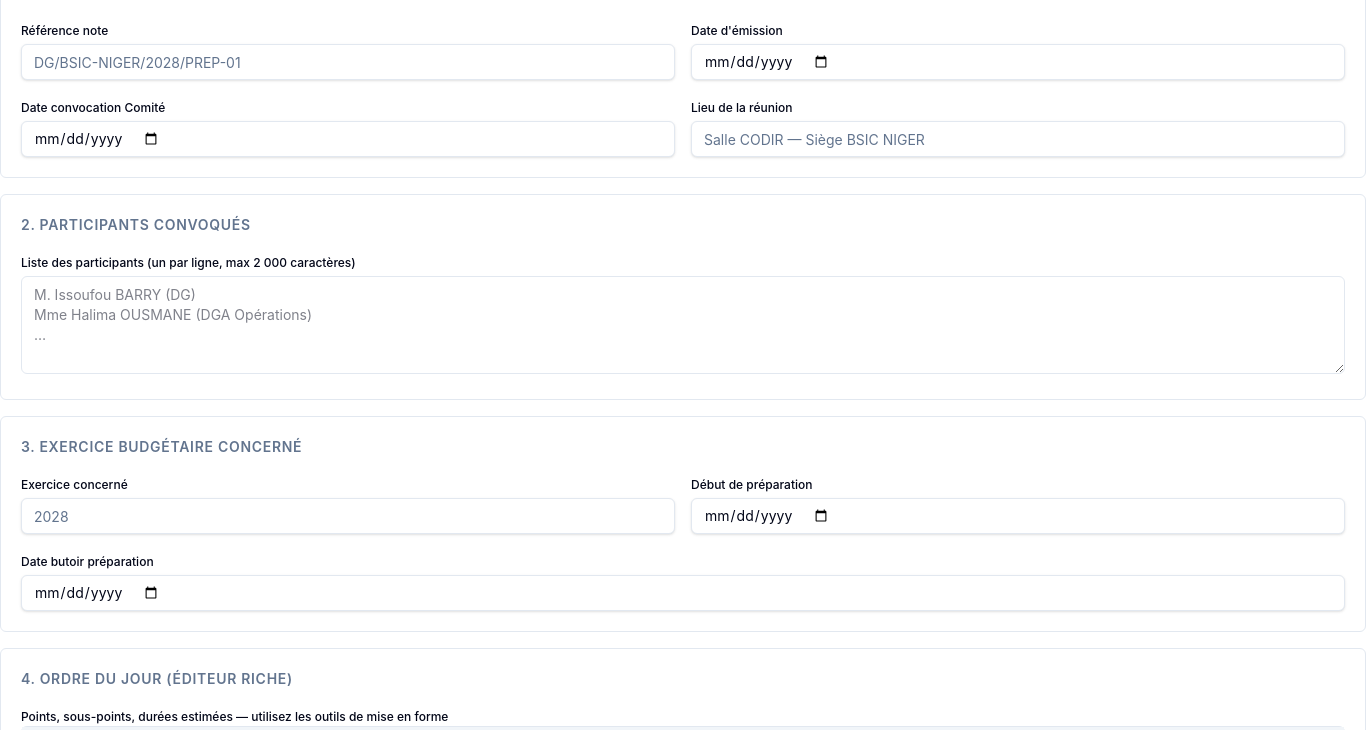
Test: NotePreparatoireDetailsForm (Lot 8.3.C P3) › 4. exerciceConcerne hors plage (1990) → erreur zod + API jamais appelée
Type "1990" into the number field with test id "npd-input-exerciceConcerne" at (348, 516), box [21,498,675,534]
(page scrolled)
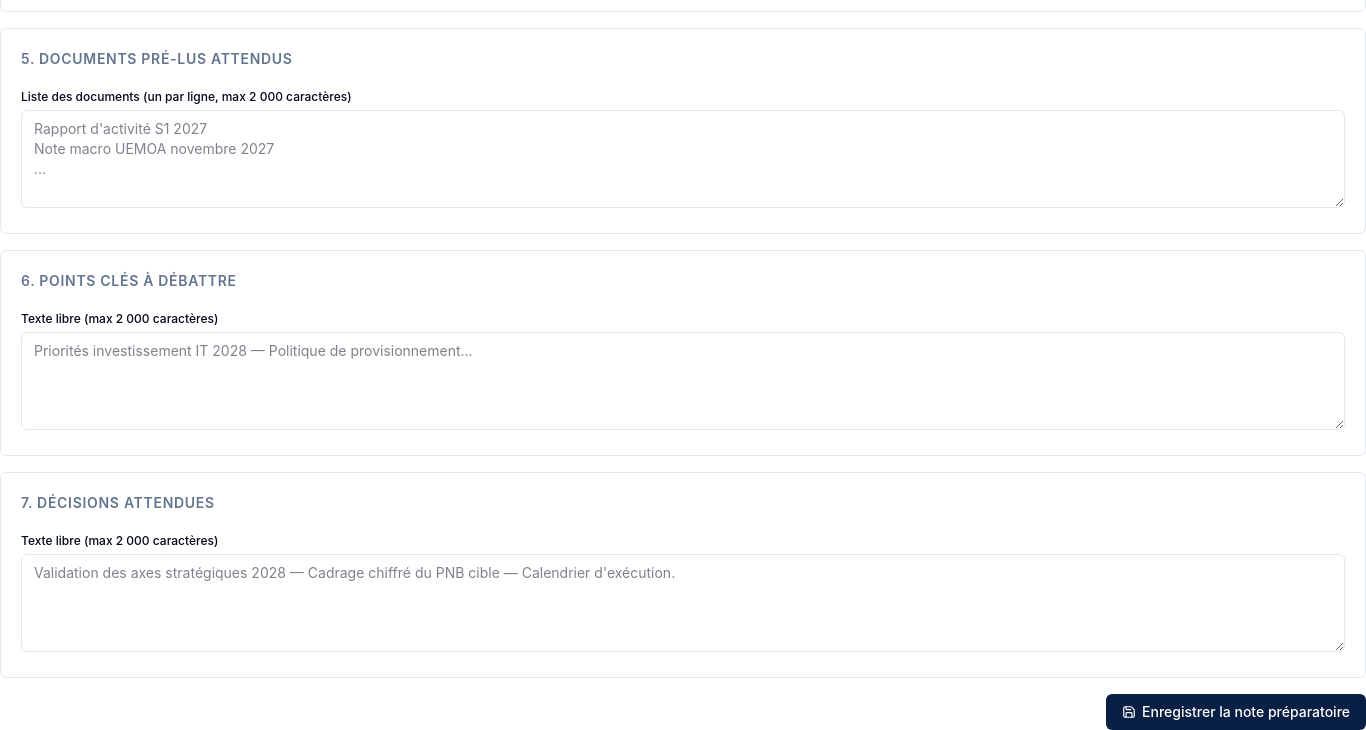
Click the button with test id "btn-save-preparatoire" at (1236, 712), box [1106,694,1365,729]
(page scrolled)
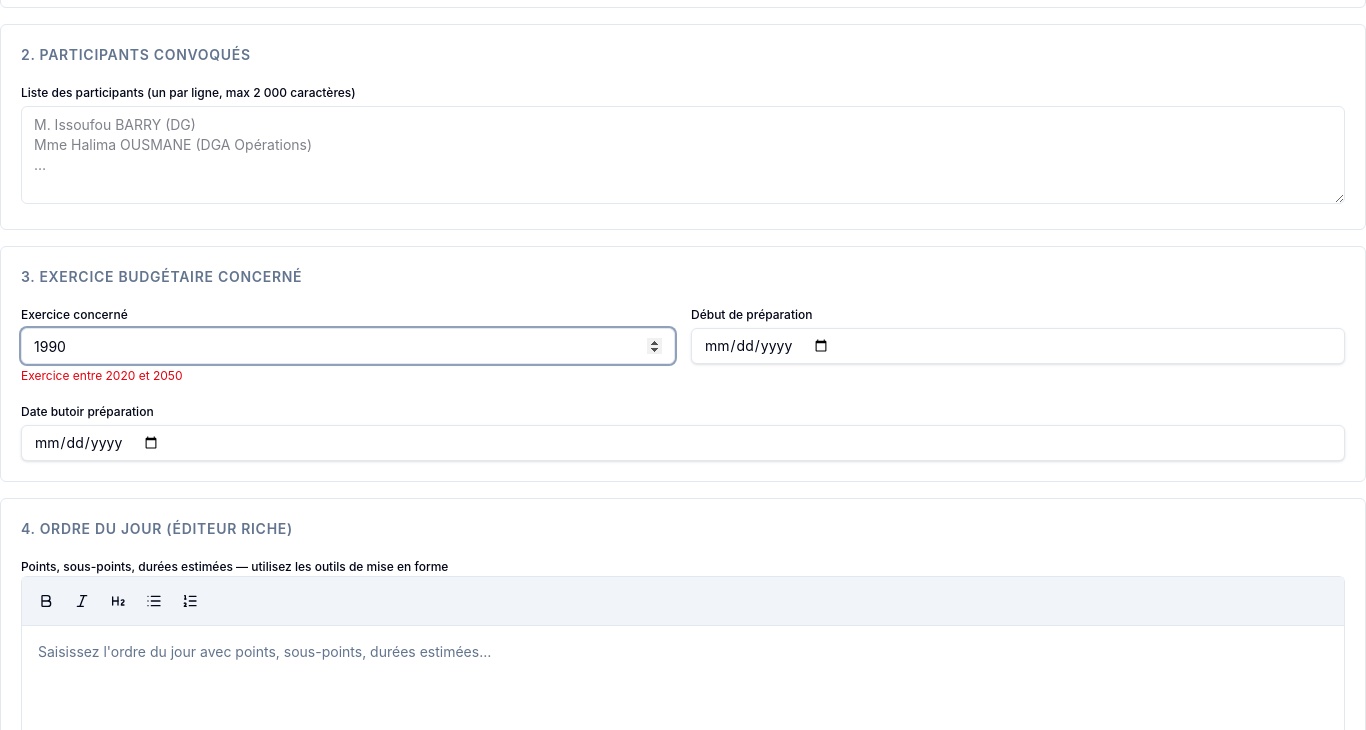
expect the text with test id "npd-err-exerciceConcerne" reads "Exercice entre 2020 et 2050": met, box [21,368,182,383]
